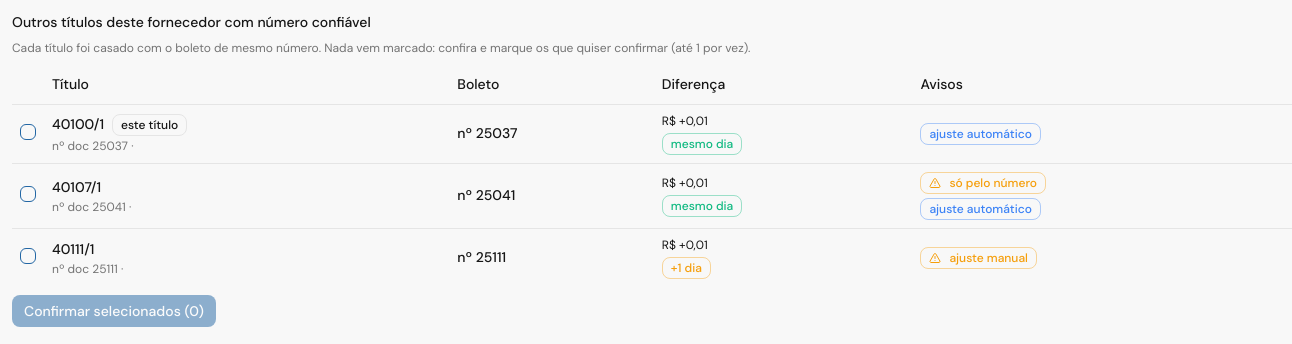
Test: ConfirmacaoEmConjuntoSecao › no teto, as caixas desmarcadas ficam desabilitadas
The image size is (1292, 344).
Step 1. Click the checkbox named "Marcar o título 40107/1" → (28, 194), box x1=20 y1=186 x2=36 y2=202
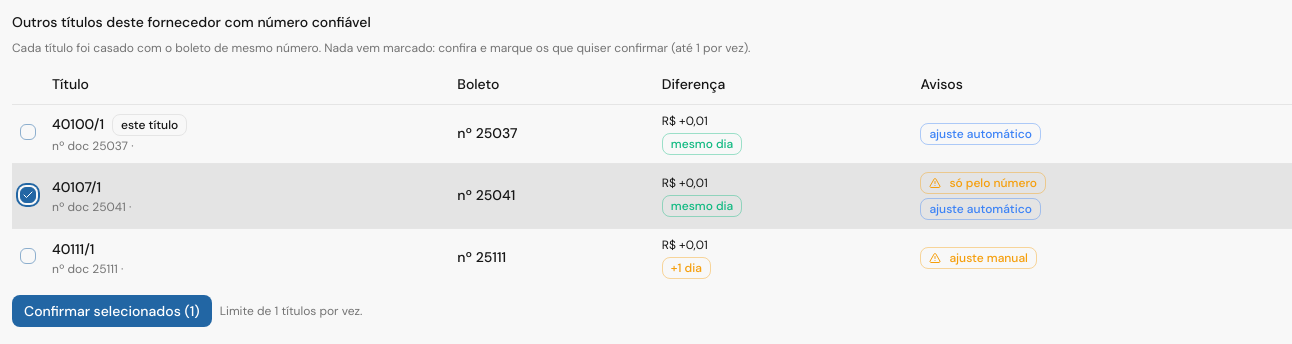
Check: the checkbox named "Marcar o título 40111/1" is disabled, box x1=20 y1=248 x2=36 y2=264
Check: the text "Limite de 1 títulos por vez." is shown, box x1=220 y1=302 x2=362 y2=318
